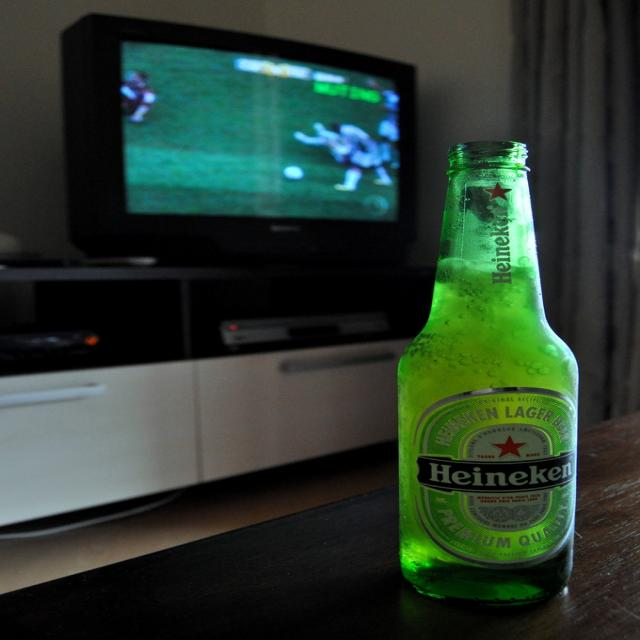heineken: (410, 389, 578, 567)
